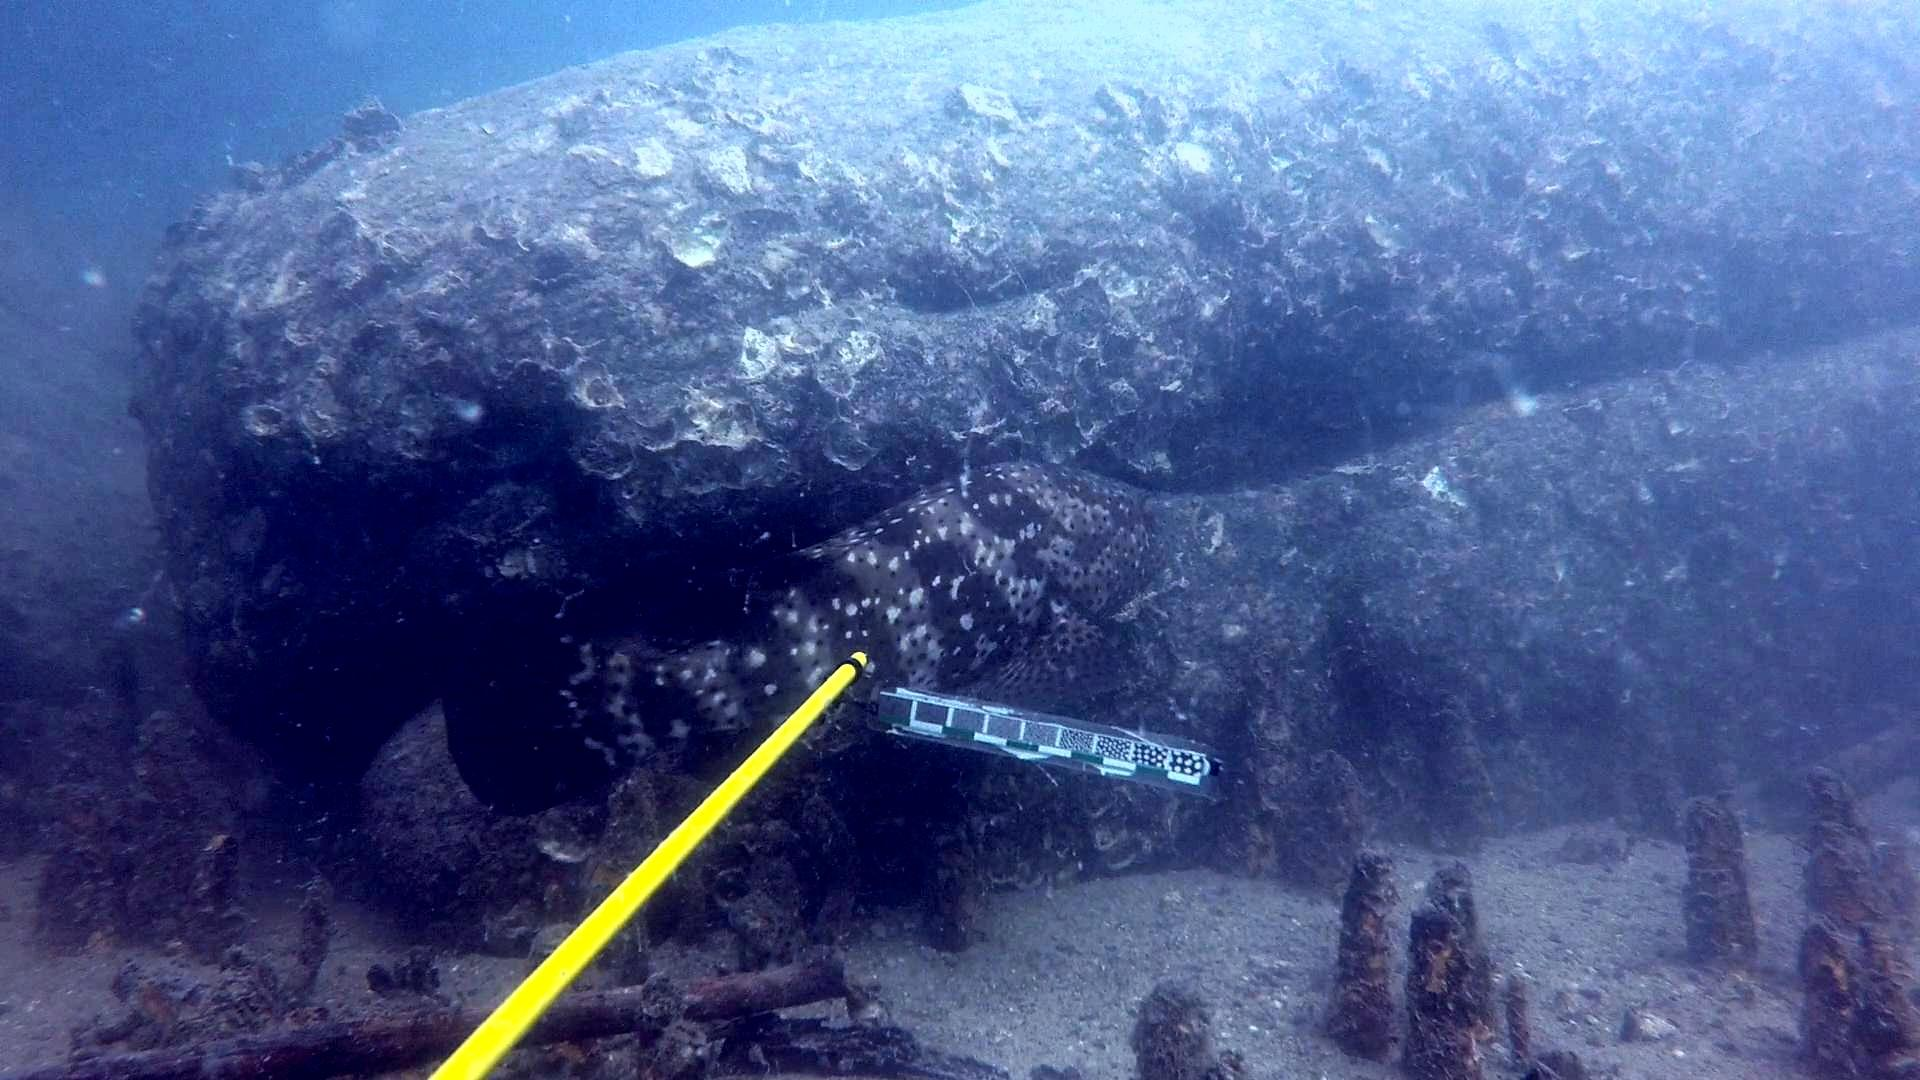epinephelus: (430, 448, 1191, 828)
